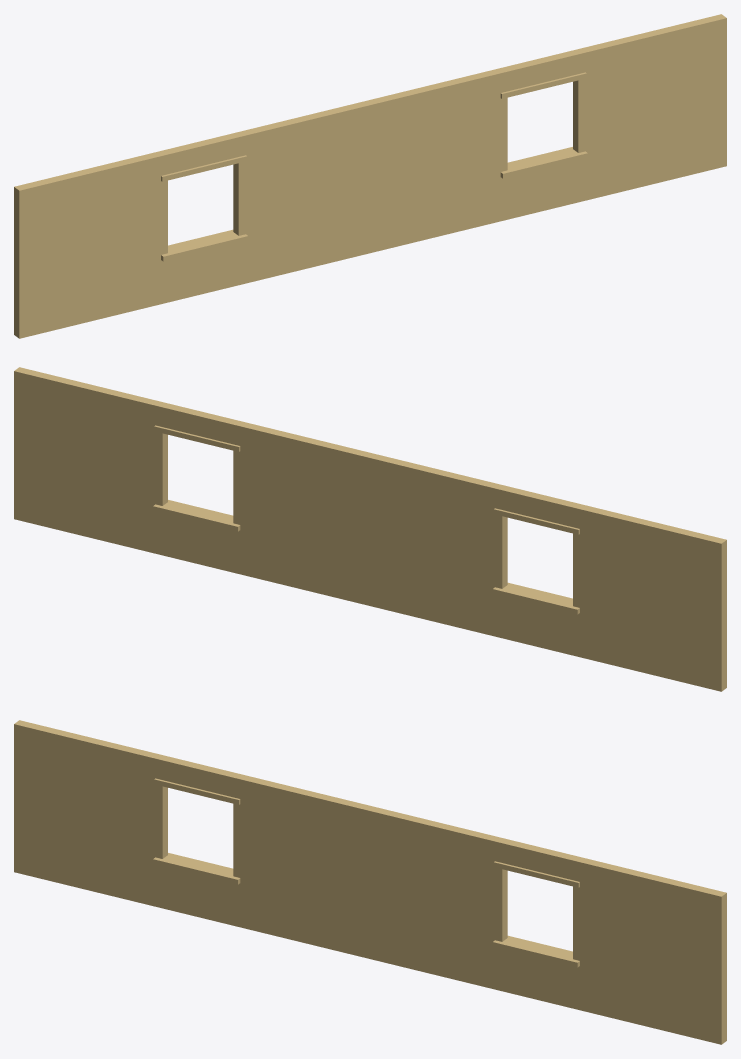
Rendered from mod_wall_window.glb.
3 renders of one model, top to bottom at view 1: azimuth 30°, elevation 25°; view 2: azimuth 150°, elevation 25°; view 3: azimuth 330°, elevation 25°, orthographic.
Visible parts, largest first — view 1: Mod_WallWindow; view 2: Mod_WallWindow; view 3: Mod_WallWindow.
Part boxes in pixels (<box>): Mod_WallWindow: <box>14,14,726,338</box>; Mod_WallWindow: <box>14,367,726,691</box>; Mod_WallWindow: <box>14,720,726,1044</box>.
Bounding box in the file's own units: 15 × 3 × 0.38.
